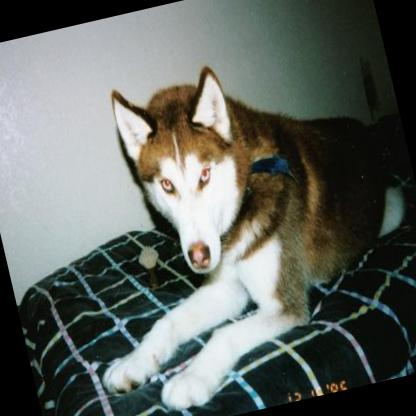Siberian_husky: (36, 29, 416, 416)
